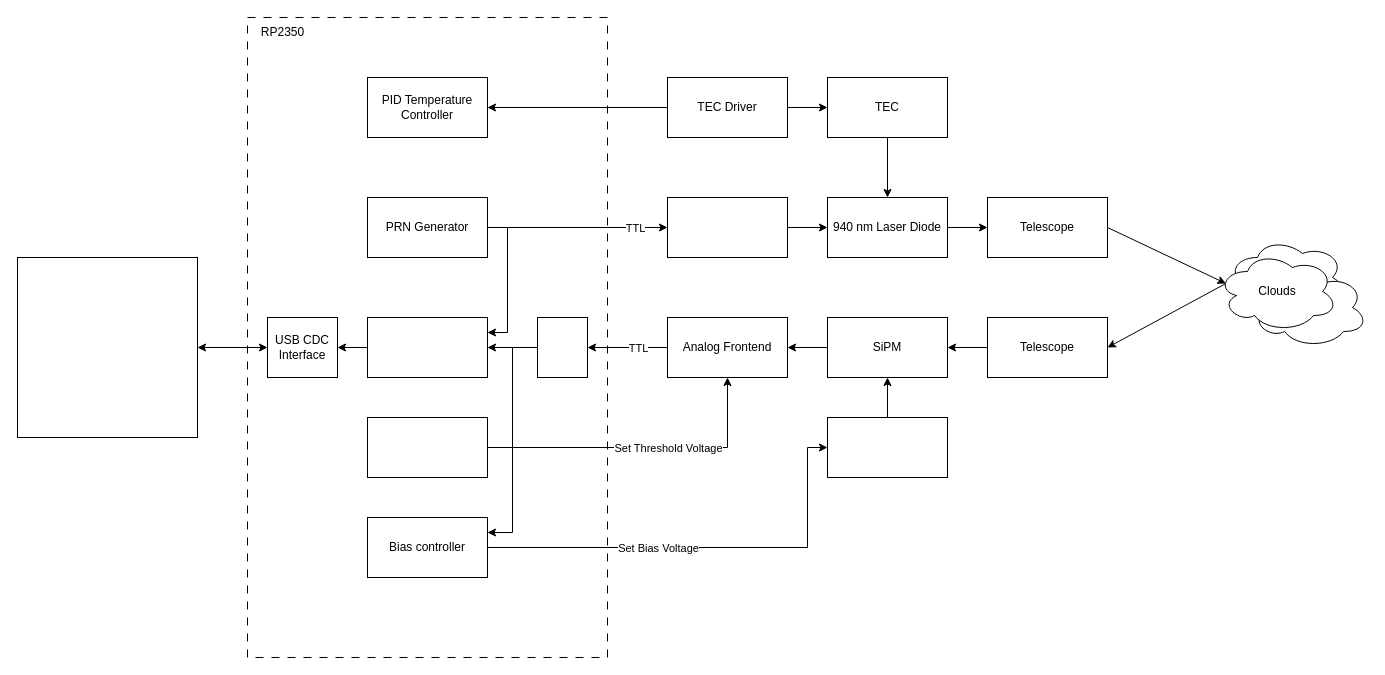
Image size: 1385x675. Some labels were removed from this diagram. Here are the shapes that lost their labels. From the top down, the centre of each, then its label:
point 727,227: Laser Driver
point 107,347: Raspberry Pi
point 427,347: FFT Correlator
point 562,347: Timer Counter
point 427,447: Threshold controller
point 887,447: Bias Voltage Generator
